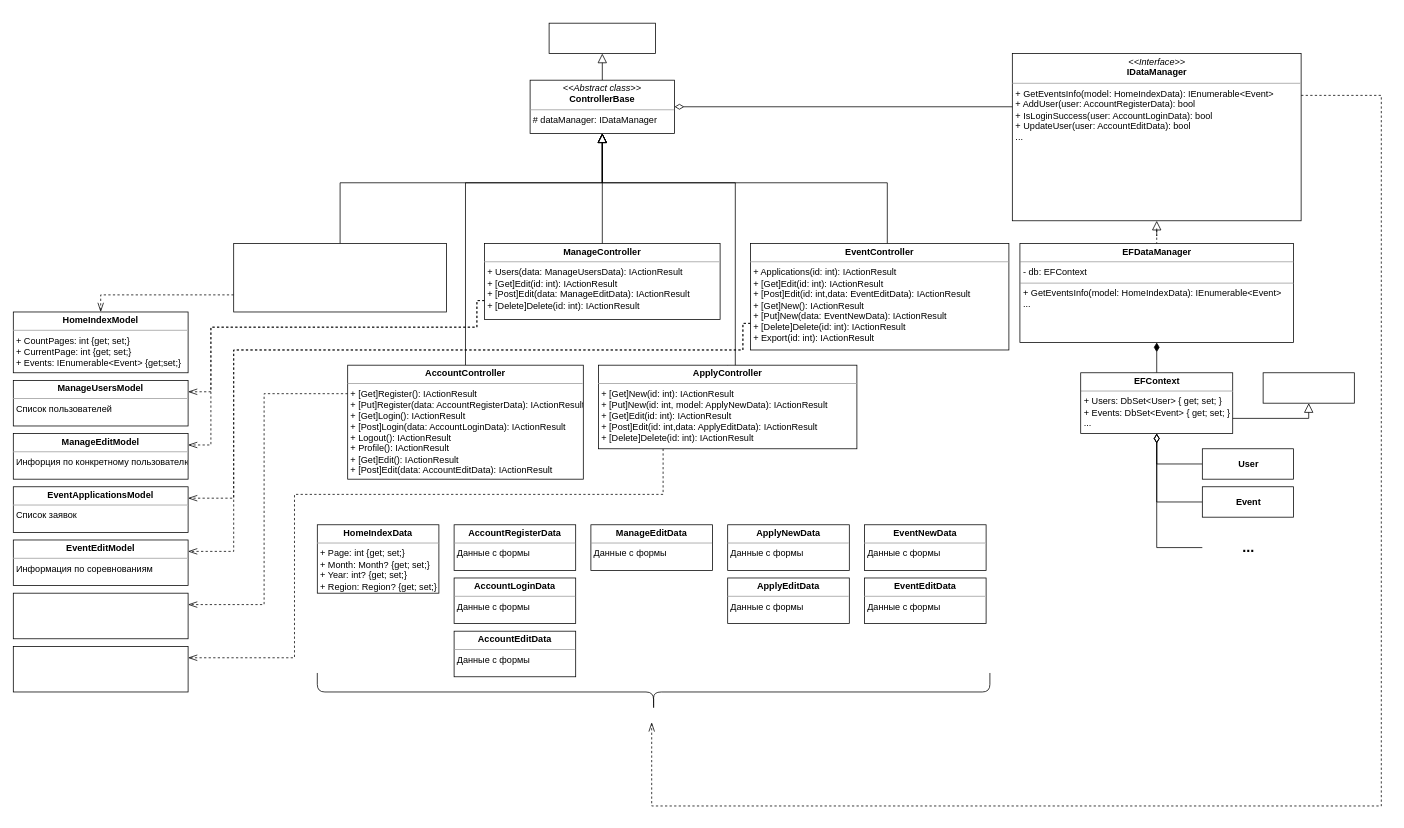
Some shapes in this 1404 by 828 pixel diagram are drawn without their labels. Each missing label, with the centre of its shape:
"<<Abstract class>> Controller" goes at point (602, 38).
"AccountProfileModel Информация по пользователю" goes at point (100, 615).
"ApplyEditViewModel Информация по заявке" goes at point (100, 669).
"DbContext" goes at point (1308, 387).
"HomeController + Index(data: HomeIndexData): IActionResult" goes at point (339, 277).
